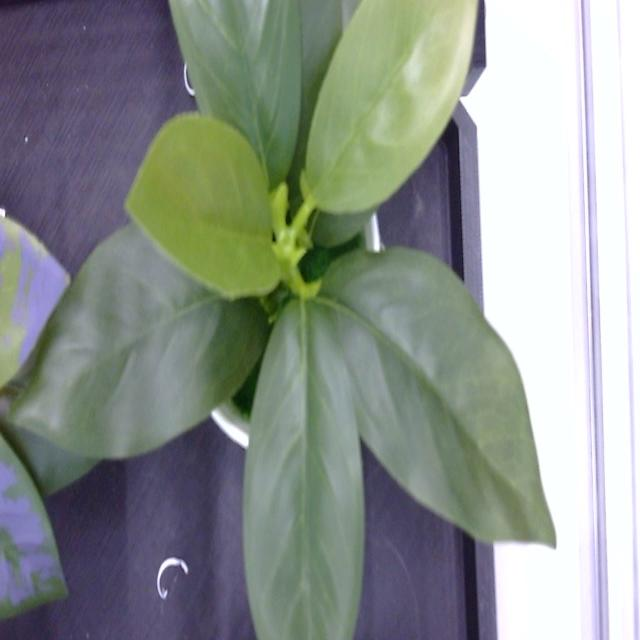Green: (324, 248, 555, 547), (13, 223, 269, 459), (244, 305, 364, 639), (301, 0, 477, 213), (170, 0, 340, 185), (126, 114, 280, 300)
Purple: (0, 209, 70, 390), (0, 436, 66, 620)
